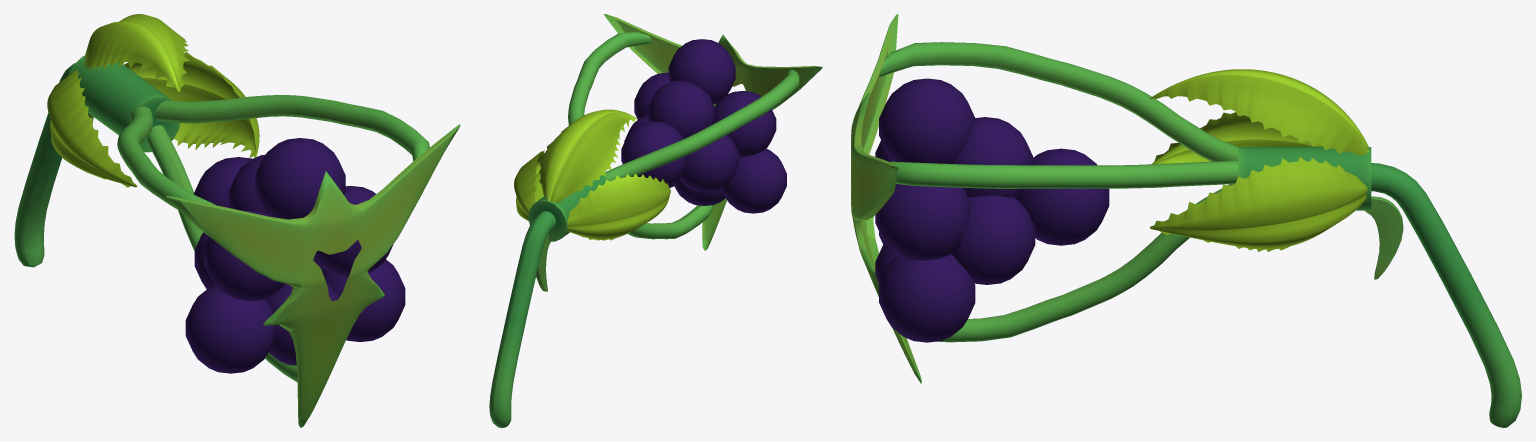
Rendered from Uva_Gun.fbx.
3 views of the same model, side by side, from view 1: azimuth 30°, elevation 25°; view 2: azimuth 150°, elevation 25°; view 3: azimuth 270°, elevation 25° (orthographic). The views are drawn at different scales.
Visible parts, largest first — view 1: Cylinder, Grape6, Grape1, Grape4, Grape3, Grape10, Grape2, Grape7, Grape5, Grape9; view 2: Cylinder, Grape6, Grape1, Grape7, Grape9, Grape10, Grape3, Grape2, Grape5; view 3: Cylinder, Grape4, Grape1, Grape2, Grape8, Grape10, Grape7.
Part boxes in pixels (left/top/right/bottom): Cylinder: left=14, top=14, right=460, bottom=427; Grape6: left=185, top=285, right=276, bottom=373; Grape1: left=255, top=138, right=345, bottom=219; Grape4: left=323, top=259, right=405, bottom=341; Grape3: left=204, top=210, right=284, bottom=301; Grape10: left=193, top=157, right=251, bottom=207; Grape2: left=314, top=186, right=393, bottom=276; Grape7: left=228, top=154, right=266, bottom=213; Grape5: left=266, top=283, right=339, bottom=365; Grape9: left=194, top=232, right=214, bottom=289; Cylinder: left=489, top=14, right=822, bottom=427; Grape6: left=721, top=148, right=786, bottom=213; Grape1: left=668, top=39, right=735, bottom=104; Grape7: left=648, top=80, right=714, bottom=138; Grape9: left=679, top=135, right=738, bottom=192; Grape10: left=621, top=121, right=688, bottom=185; Grape3: left=713, top=91, right=776, bottom=157; Grape2: left=634, top=72, right=669, bottom=119; Grape5: left=673, top=179, right=725, bottom=205; Cylinder: left=851, top=14, right=1521, bottom=427; Grape4: left=879, top=254, right=975, bottom=342; Grape1: left=879, top=78, right=975, bottom=163; Grape2: left=875, top=184, right=971, bottom=260; Grape8: left=951, top=195, right=1035, bottom=284; Grape10: left=1018, top=148, right=1109, bottom=245; Grape7: left=953, top=117, right=1033, bottom=199.
Size of the model in its own units: 78.54 by 83.82 by 145.
Materials: 4 (3 with a texture image).
